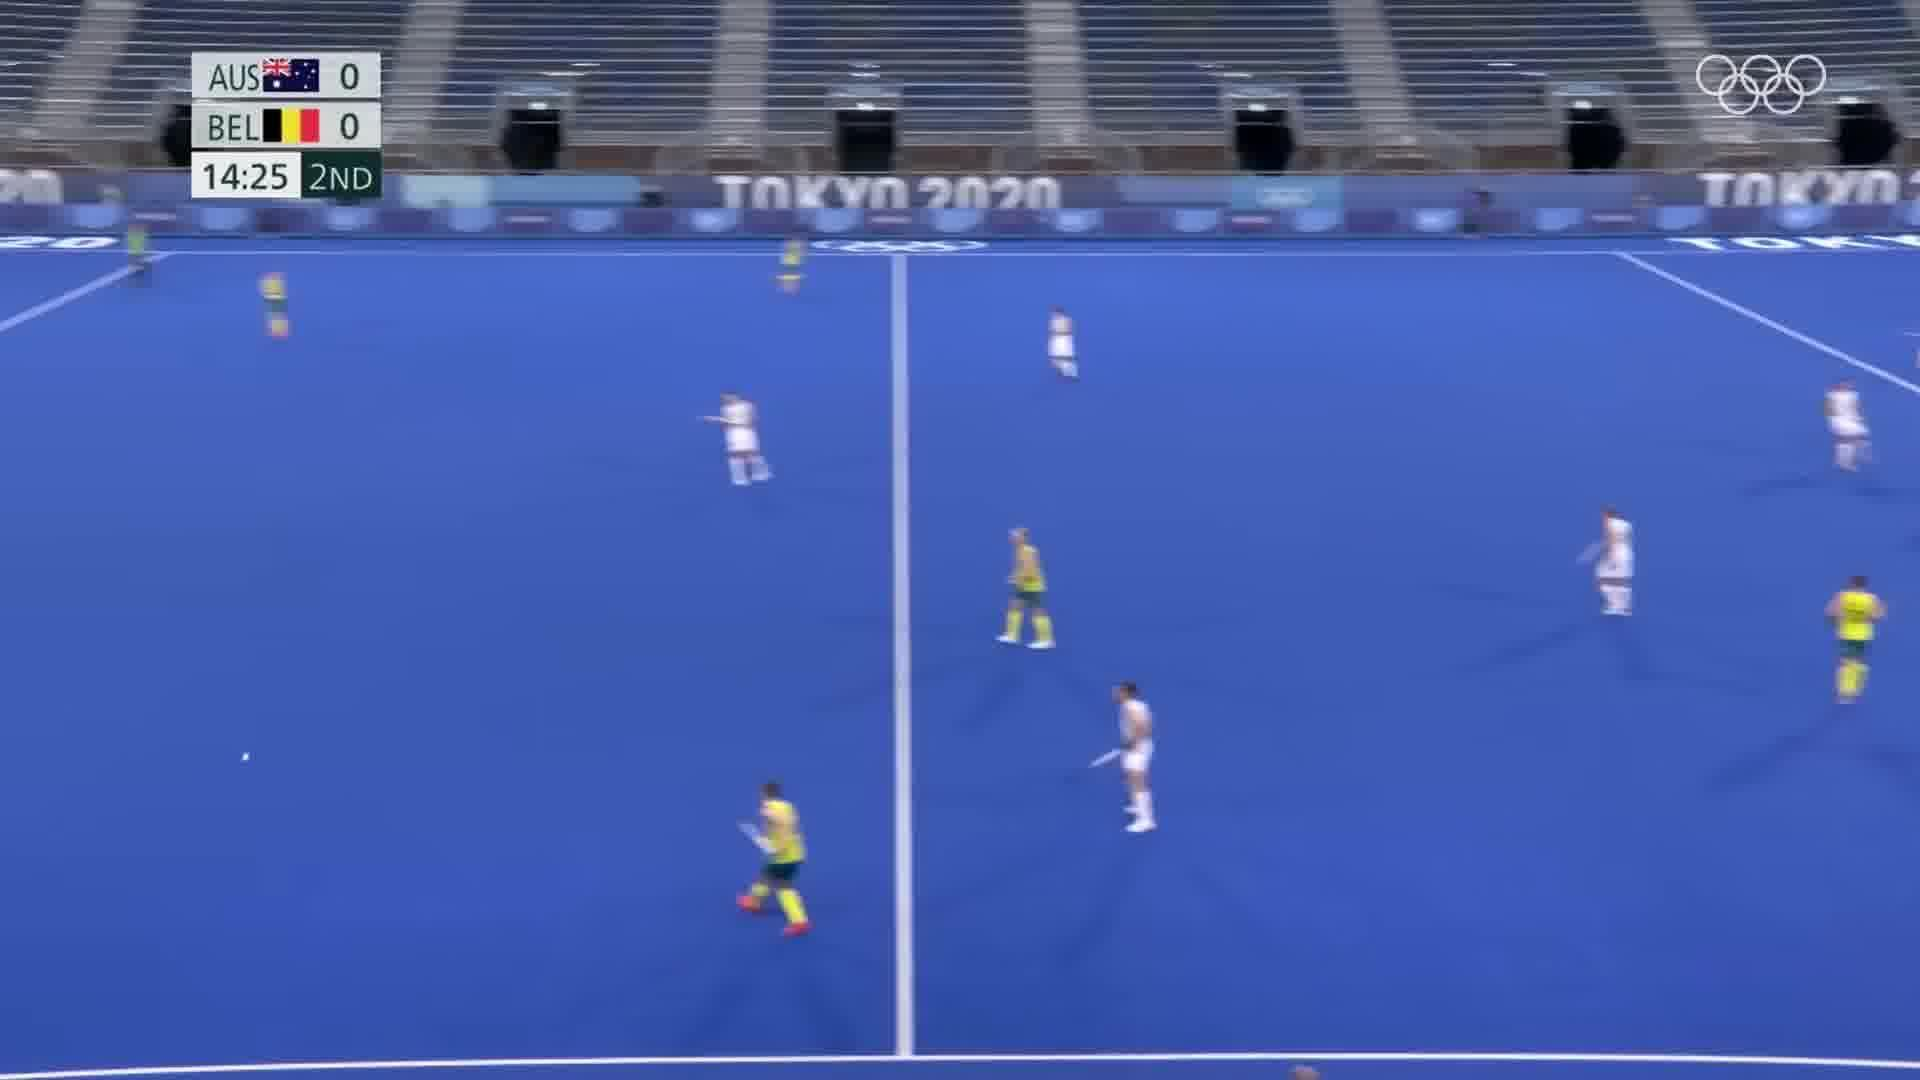ball: (235, 741, 260, 771)
